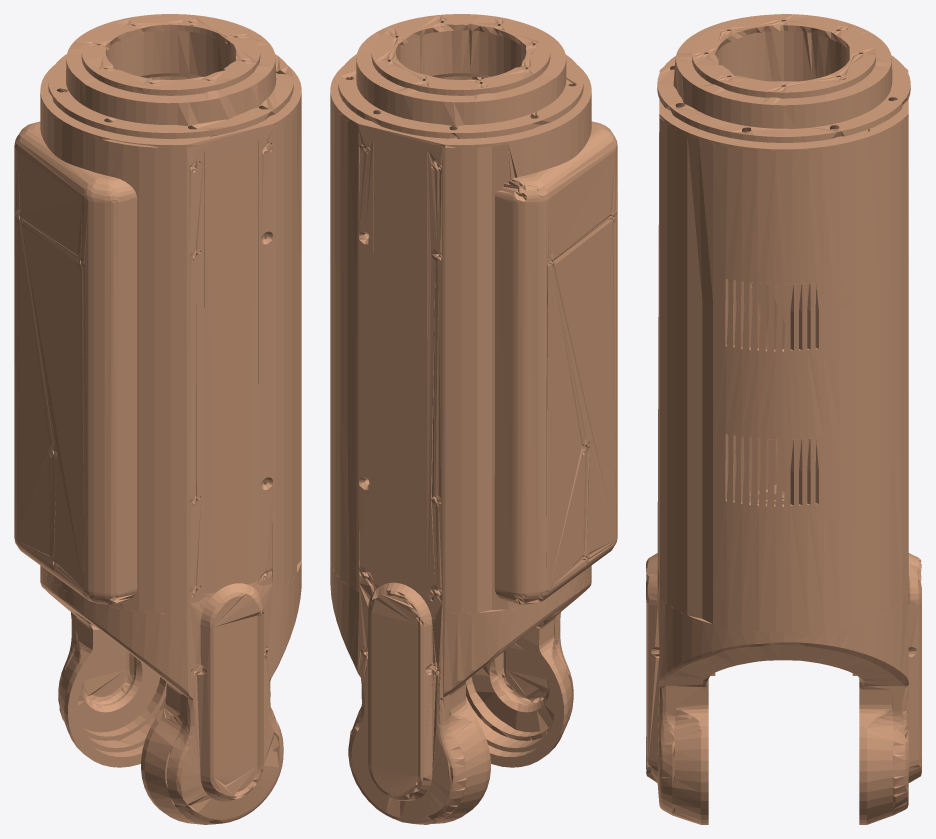
File: A2R3_T5_forearmRoll.dae
3 views of the same model, side by side, from view 1: azimuth 30°, elevation 25°; view 2: azimuth 150°, elevation 25°; view 3: azimuth 270°, elevation 25° (orthographic). The views are drawn at different scales.
Parts seen in each view (by area): view 1: A2R3_T5_forearmRoll; view 2: A2R3_T5_forearmRoll; view 3: A2R3_T5_forearmRoll.
Part boxes in pixels (<box>): A2R3_T5_forearmRoll: <box>14,14,301,824</box>; A2R3_T5_forearmRoll: <box>330,14,617,824</box>; A2R3_T5_forearmRoll: <box>646,14,921,824</box>.
Size of the model in its own units: 0.085 by 0.0838 by 0.2561.
